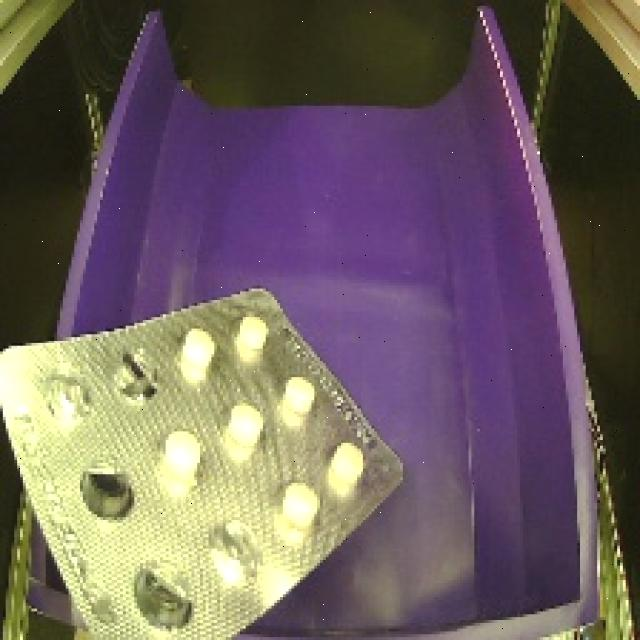med_plate: (0, 280, 420, 640)
